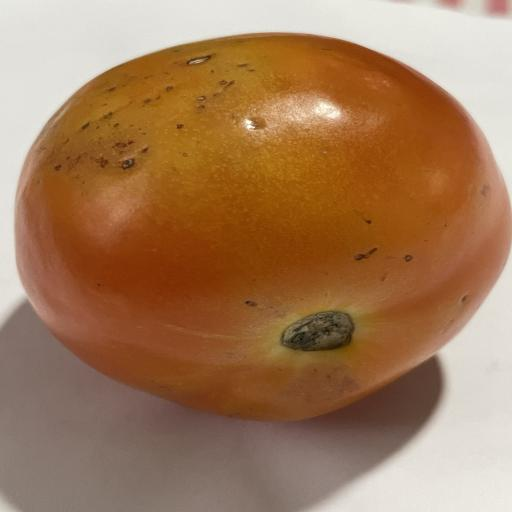unripe: (16, 33, 511, 421)
